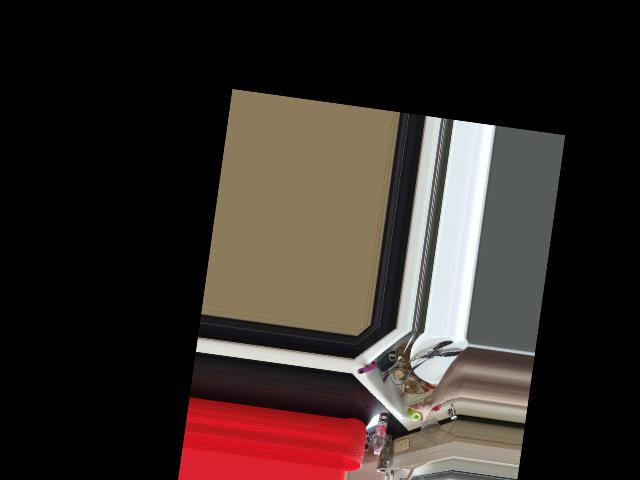apple: (406, 404, 423, 423)
